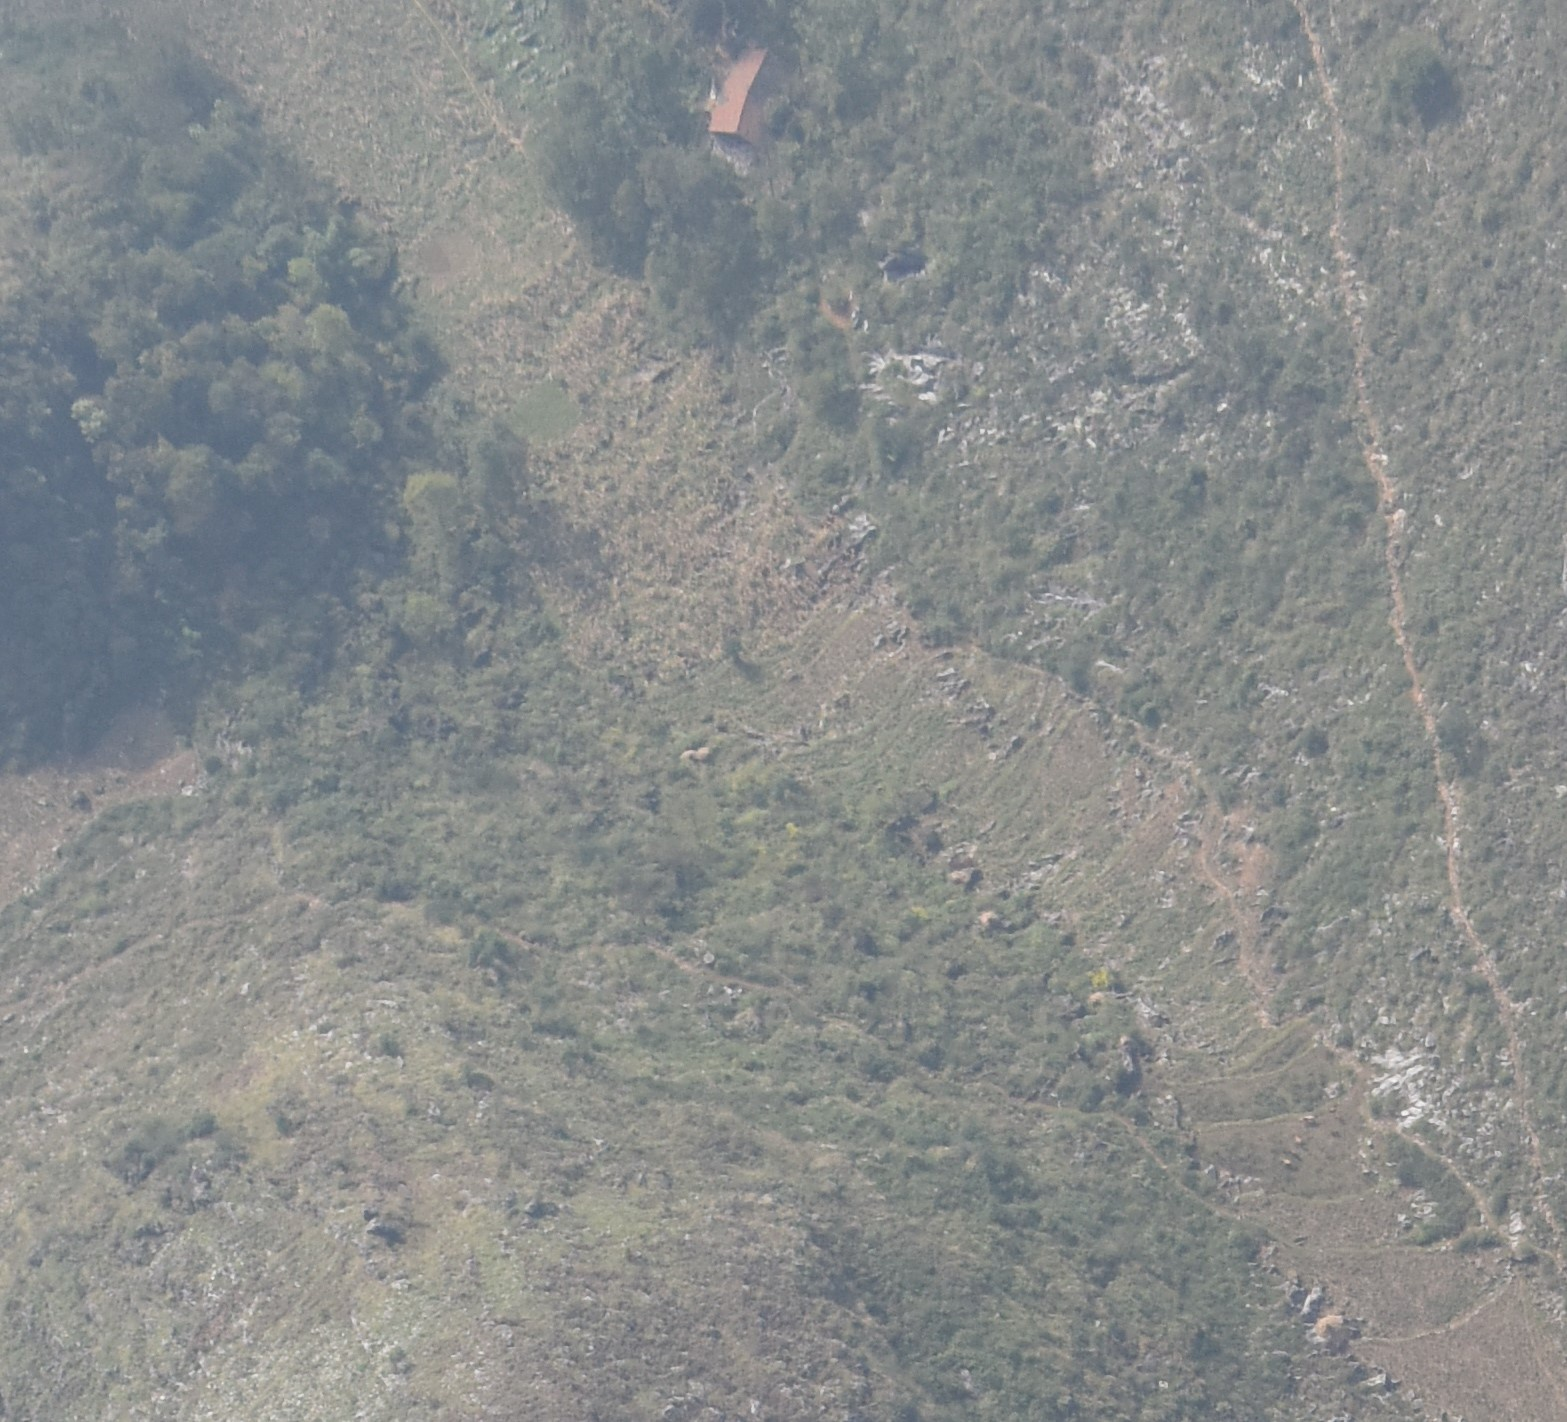building: (702, 46, 789, 144)
